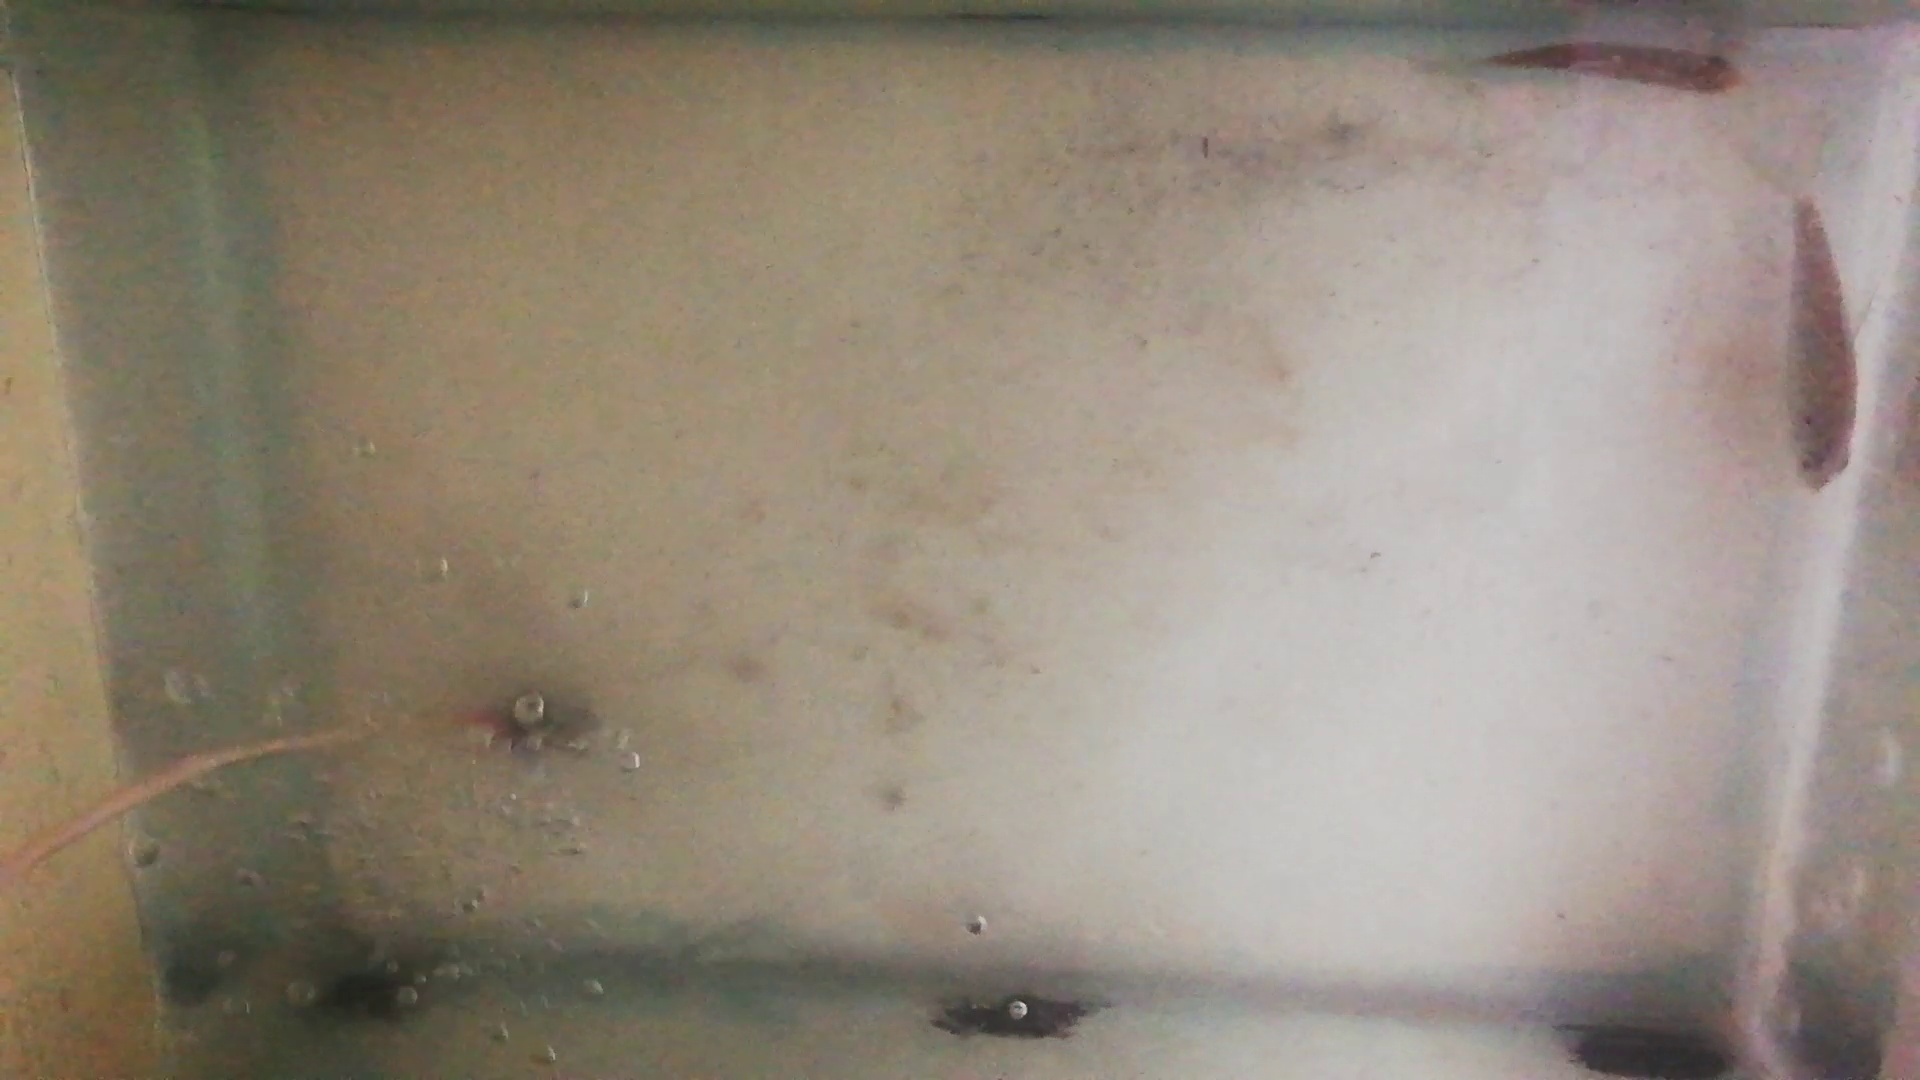fish: (1784, 200, 1859, 498), (1498, 42, 1745, 98)
